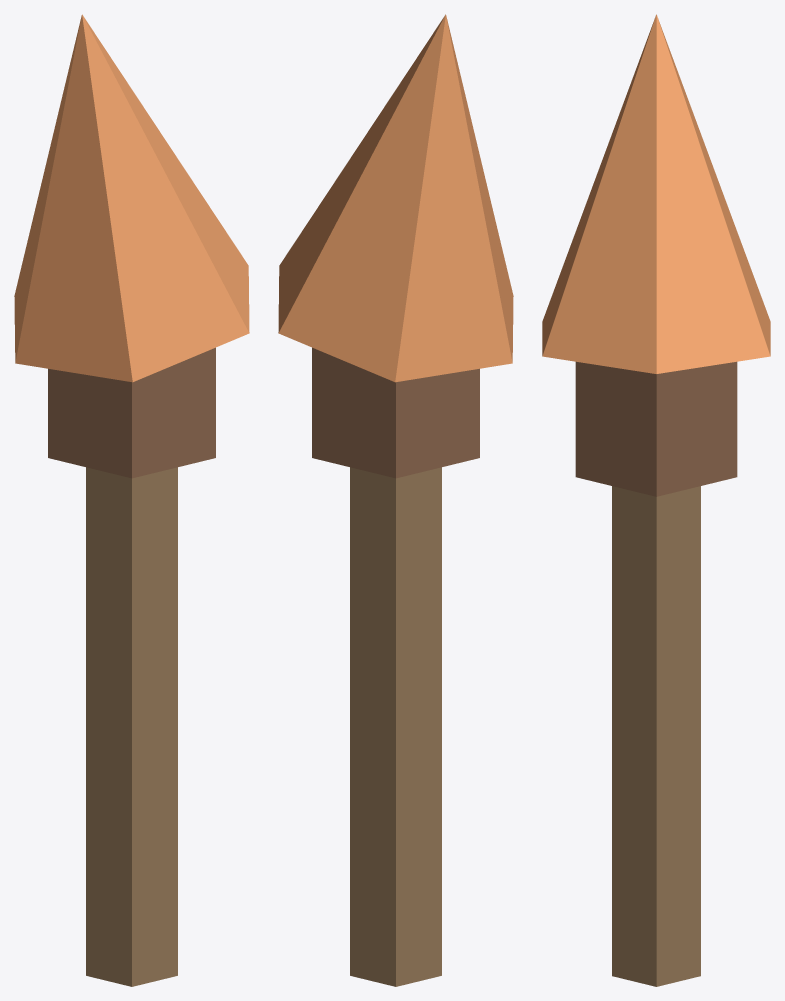
File: animprop_torch_04.glb
The picture shows the model from 3 angles, left to right: view 1: azimuth 30°, elevation 25°; view 2: azimuth 150°, elevation 25°; view 3: azimuth 270°, elevation 25°; orthographic projection. The views are drawn at different scales.
Visible parts, largest first — view 1: animprop; view 2: animprop; view 3: animprop.
Boxes of the visible parts, box(x1,y1,x2,y2) form: animprop: box(14, 14, 249, 986); animprop: box(278, 14, 513, 986); animprop: box(542, 14, 770, 986).
Bounding box in the file's own units: 0.2781 × 1.1 × 0.2442.
